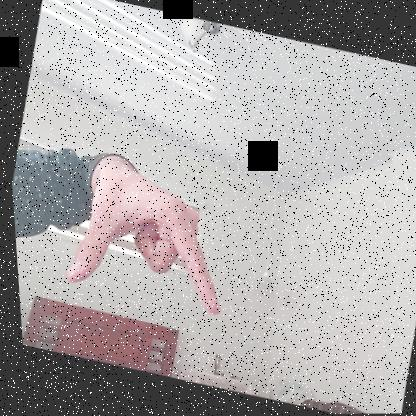Q: (53, 162, 244, 319)
